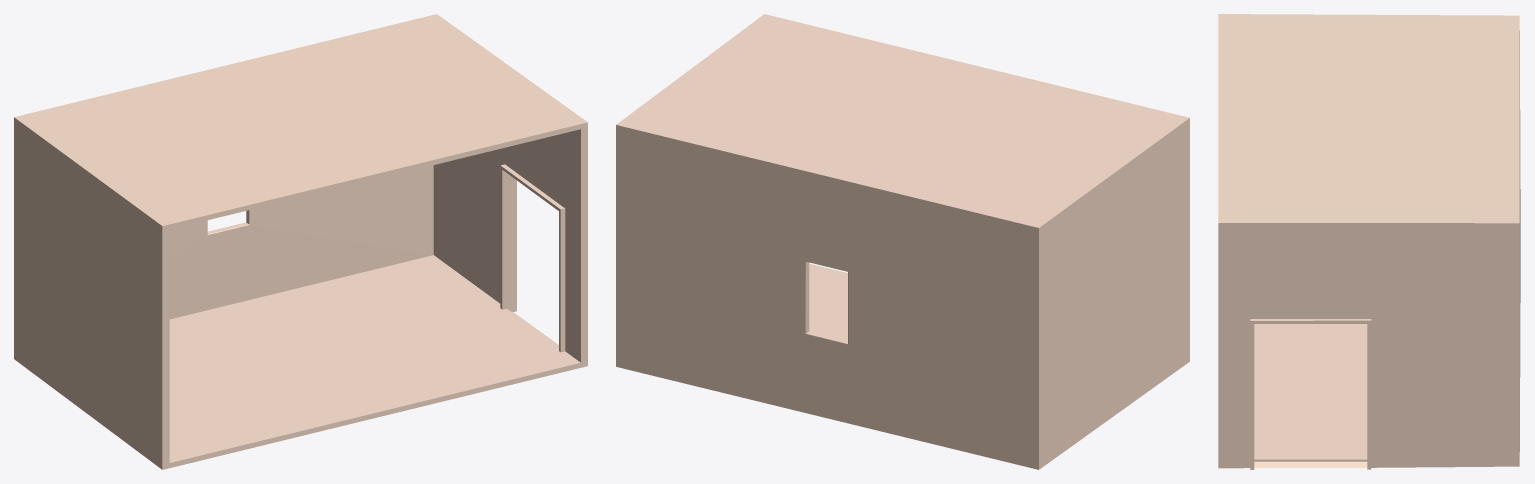
File: Mura.obj
The picture shows the model from 3 angles, left to right: view 1: azimuth 30°, elevation 25°; view 2: azimuth 150°, elevation 25°; view 3: azimuth 270°, elevation 25°; orthographic projection.
Visible parts, largest first — view 1: Pomello_comodino.000_Sphere.000; view 2: Pomello_comodino.000_Sphere.000; view 3: Pomello_comodino.000_Sphere.000.
Part boxes in pixels (<box>): Pomello_comodino.000_Sphere.000: <box>14,14,587,469</box>; Pomello_comodino.000_Sphere.000: <box>616,14,1189,469</box>; Pomello_comodino.000_Sphere.000: <box>1218,14,1520,469</box>.
Size of the model in its own units: 14.88 by 8.08 by 9.02.
